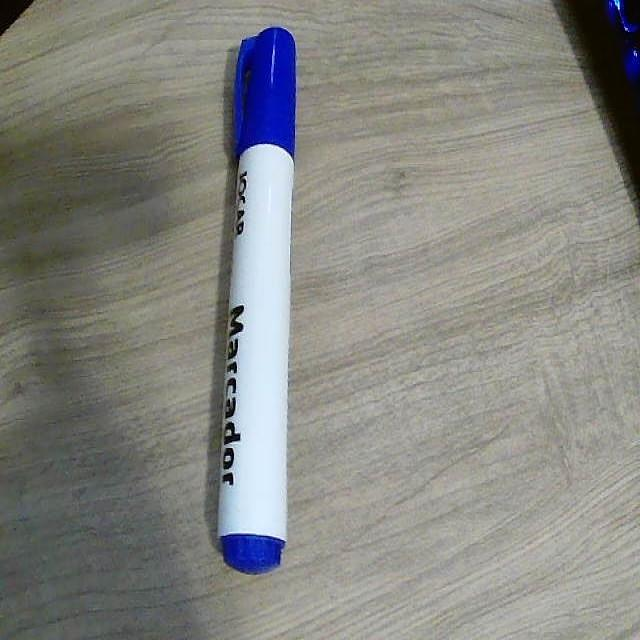caneta: (229, 28, 287, 572)
